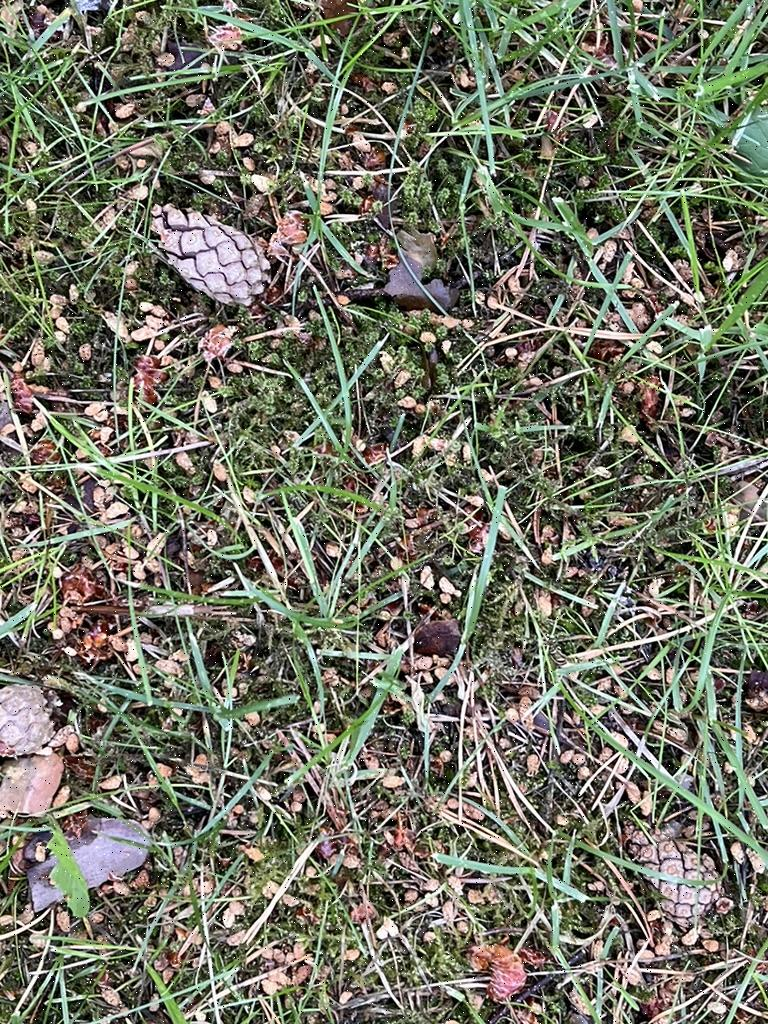pine: (141, 183, 276, 320), (608, 826, 731, 940), (0, 680, 66, 775)
